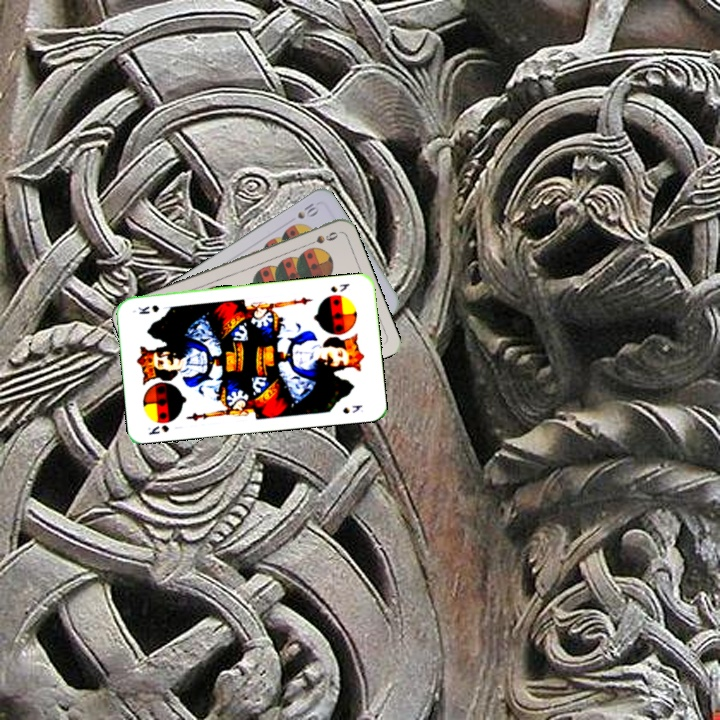S10: (293, 199, 320, 222)
S9: (301, 228, 341, 249)
SK: (144, 421, 171, 437), (326, 279, 352, 295)
